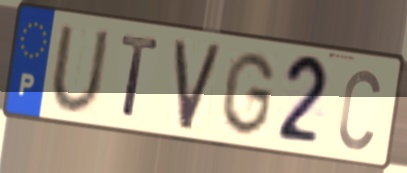2: (271, 53, 335, 150)
C: (336, 65, 383, 153)
G: (217, 49, 278, 139)
T: (119, 31, 162, 123)
U: (48, 23, 113, 116)
V: (171, 37, 225, 134)
